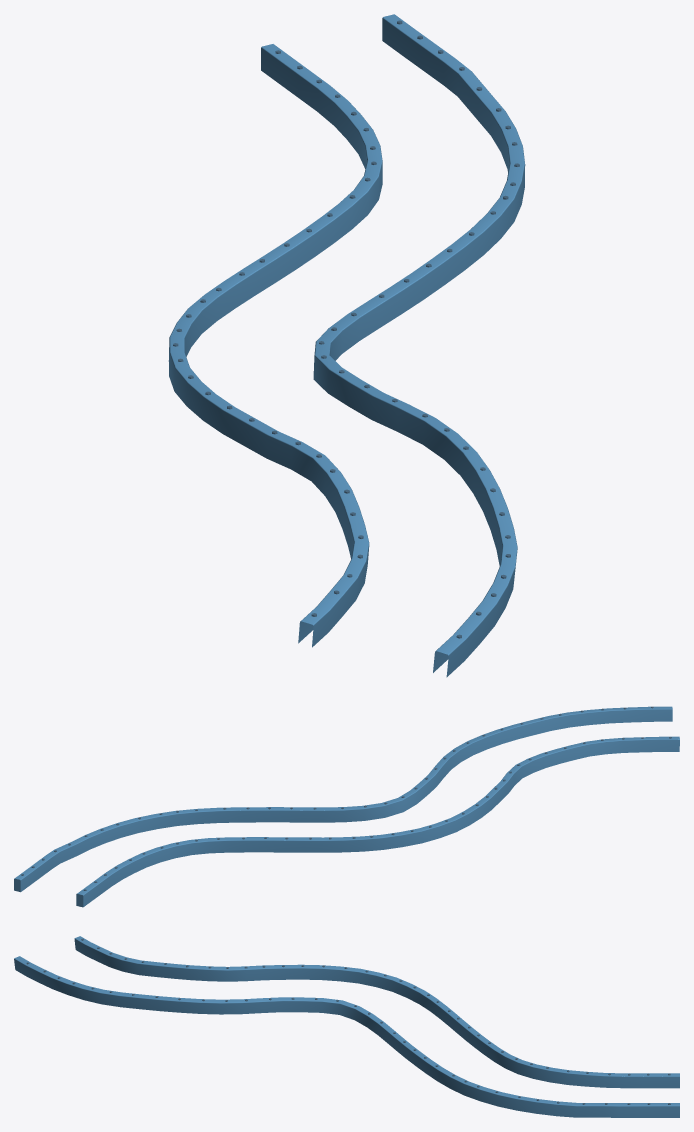
Rendered from railD_side.fbx.
3 views of the same model, one above another, from view 1: azimuth 30°, elevation 25°; view 2: azimuth 150°, elevation 25°; view 3: azimuth 270°, elevation 25° (orthographic). The views are drawn at different scales.
Parts seen in each view (by area): view 1: railD_side; view 2: railD_side; view 3: railD_side.
Boxes of the visible parts, bbox=[...] form: railD_side: bbox=[168, 14, 525, 677]; railD_side: bbox=[14, 706, 679, 907]; railD_side: bbox=[14, 936, 679, 1117].
Bounding box in the file's own units: 5.62 × 0.3573 × 9.33.
